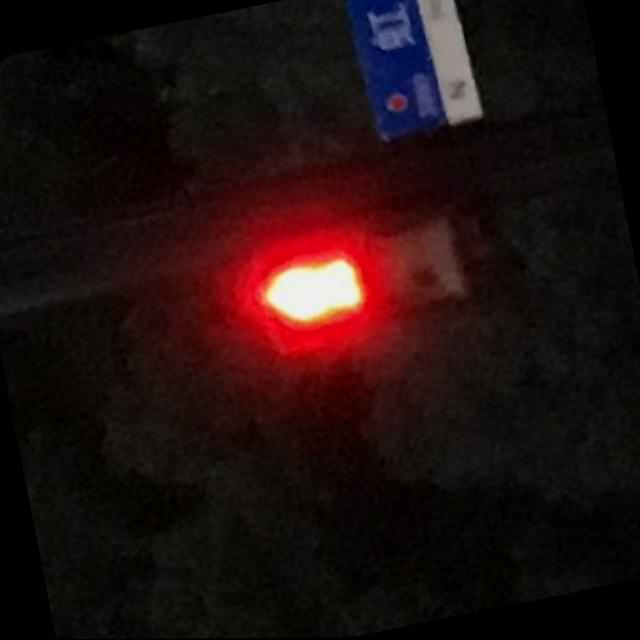red_light: (238, 231, 380, 356)
